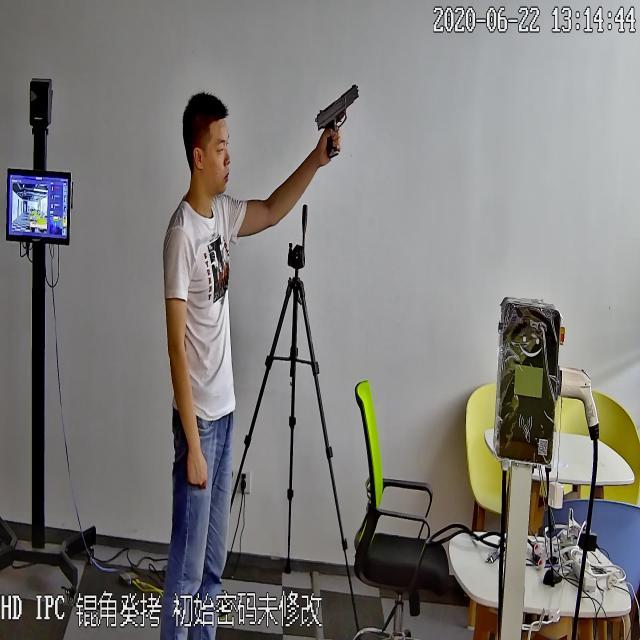gun-knife-thesis - v11 Yolov5 augmented: (313, 81, 360, 161)
